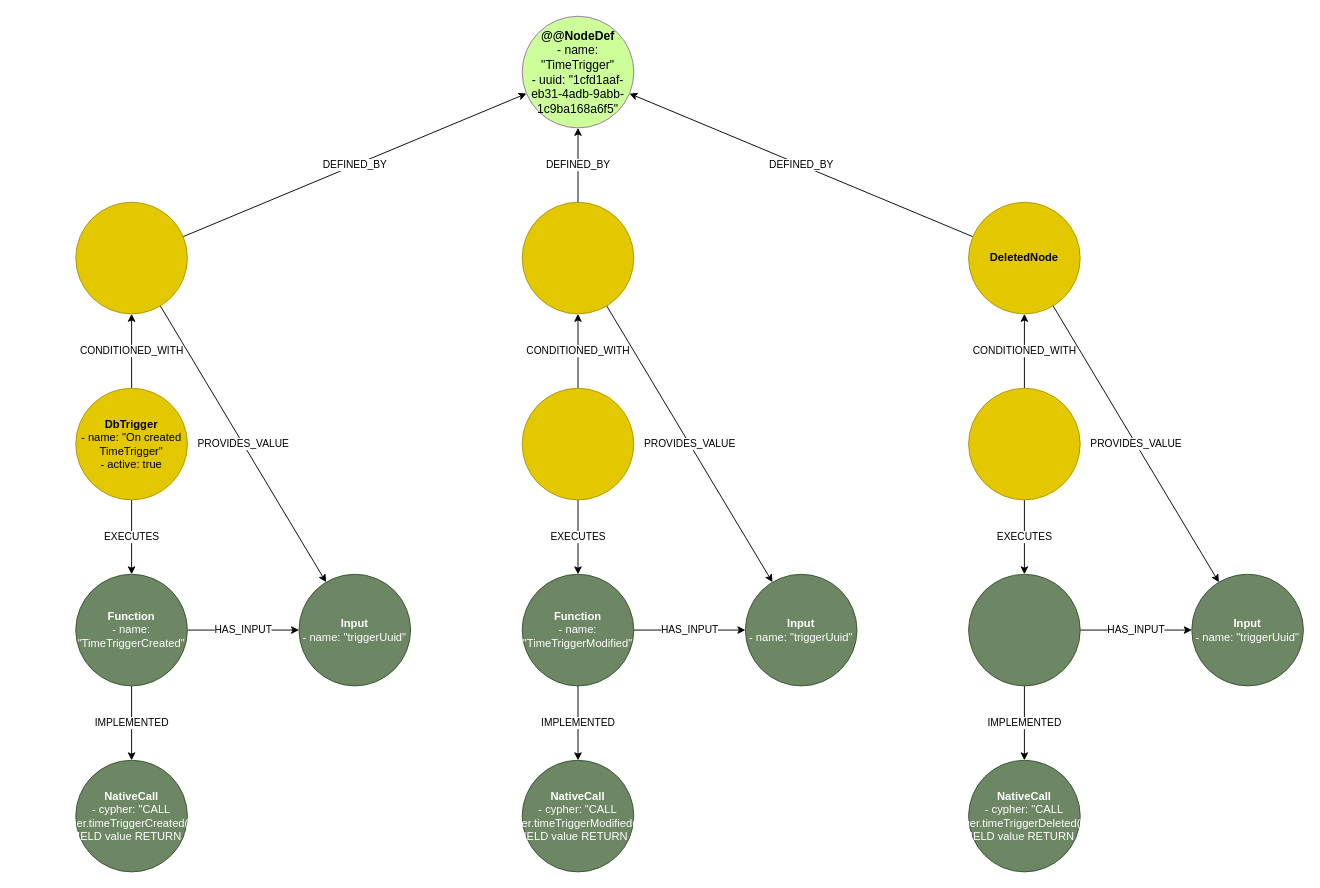
Image size: 1320x888. Some labels were removed from this diagram. Each missing label, with the centre of its shape:
CreatedNode: (x=131, y=257)
DbTrigger - name: "On deleted TimeTrigger" - active: true: (x=1024, y=443)
DbTrigger - name: "On modified TimeTrigger" - active: true: (x=577, y=443)
Function - name: "TimeTriggerDeleted": (x=1024, y=629)
ModifiedNode: (x=577, y=257)
